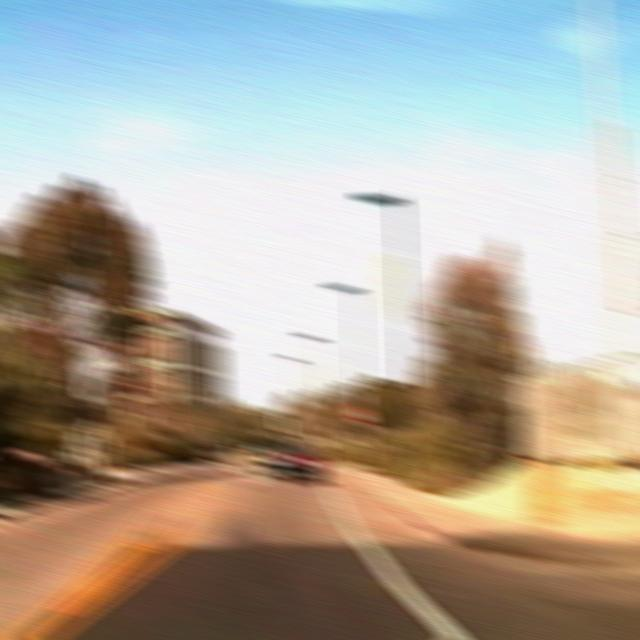stop: (349, 402, 371, 426)
